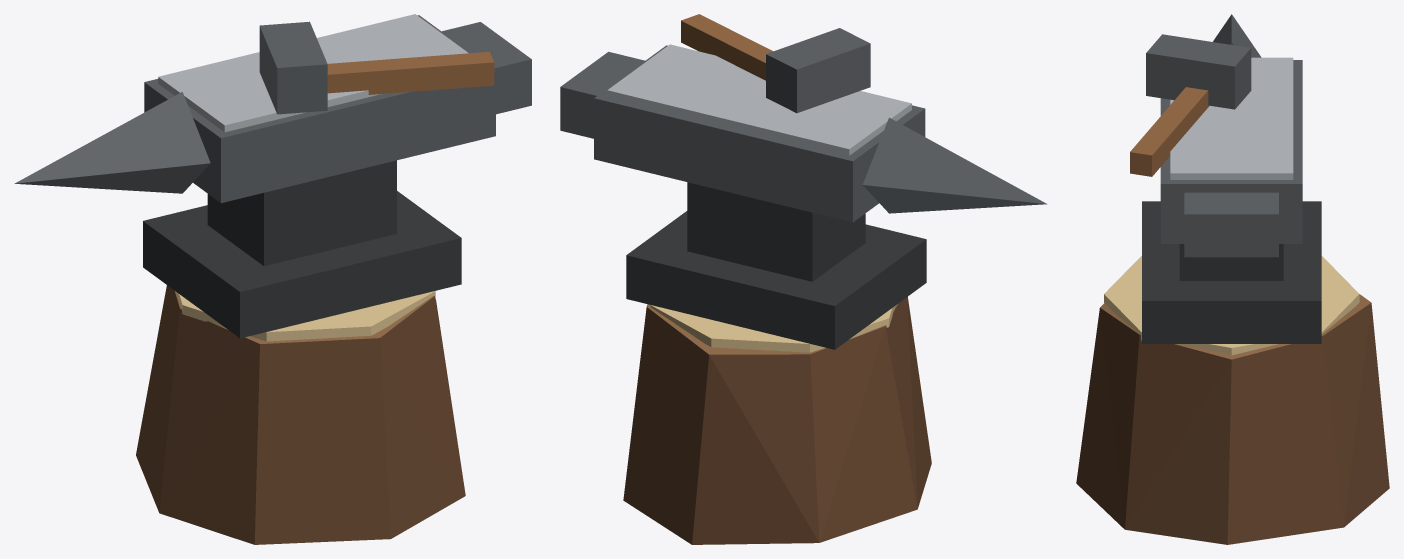
The model's file is SM_Anvil.fbx.
3 renders of one model, left to right at view 1: azimuth 30°, elevation 25°; view 2: azimuth 150°, elevation 25°; view 3: azimuth 270°, elevation 25°, orthographic. The views are drawn at different scales.
Visible parts, largest first — view 1: SM_Anvil; view 2: SM_Anvil; view 3: SM_Anvil.
Part boxes in pixels (left/top/right/bottom): SM_Anvil: left=14, top=14, right=531, bottom=544; SM_Anvil: left=560, top=14, right=1047, bottom=544; SM_Anvil: left=1076, top=14, right=1389, bottom=544.
Bounding box in the file's own units: 1.11 × 0.989 × 0.6626.
